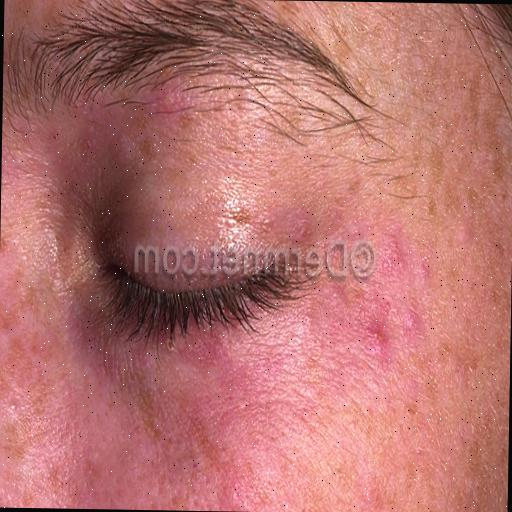Skin_Lesion: (118, 232, 260, 376), (366, 304, 426, 368), (157, 80, 200, 121), (374, 224, 404, 280), (288, 302, 316, 354), (486, 147, 512, 200), (42, 230, 68, 280), (0, 224, 22, 270), (91, 430, 116, 466), (228, 200, 254, 230), (293, 212, 315, 247), (328, 280, 350, 313), (492, 229, 512, 264), (453, 212, 469, 252), (416, 254, 430, 284), (48, 129, 62, 149)
